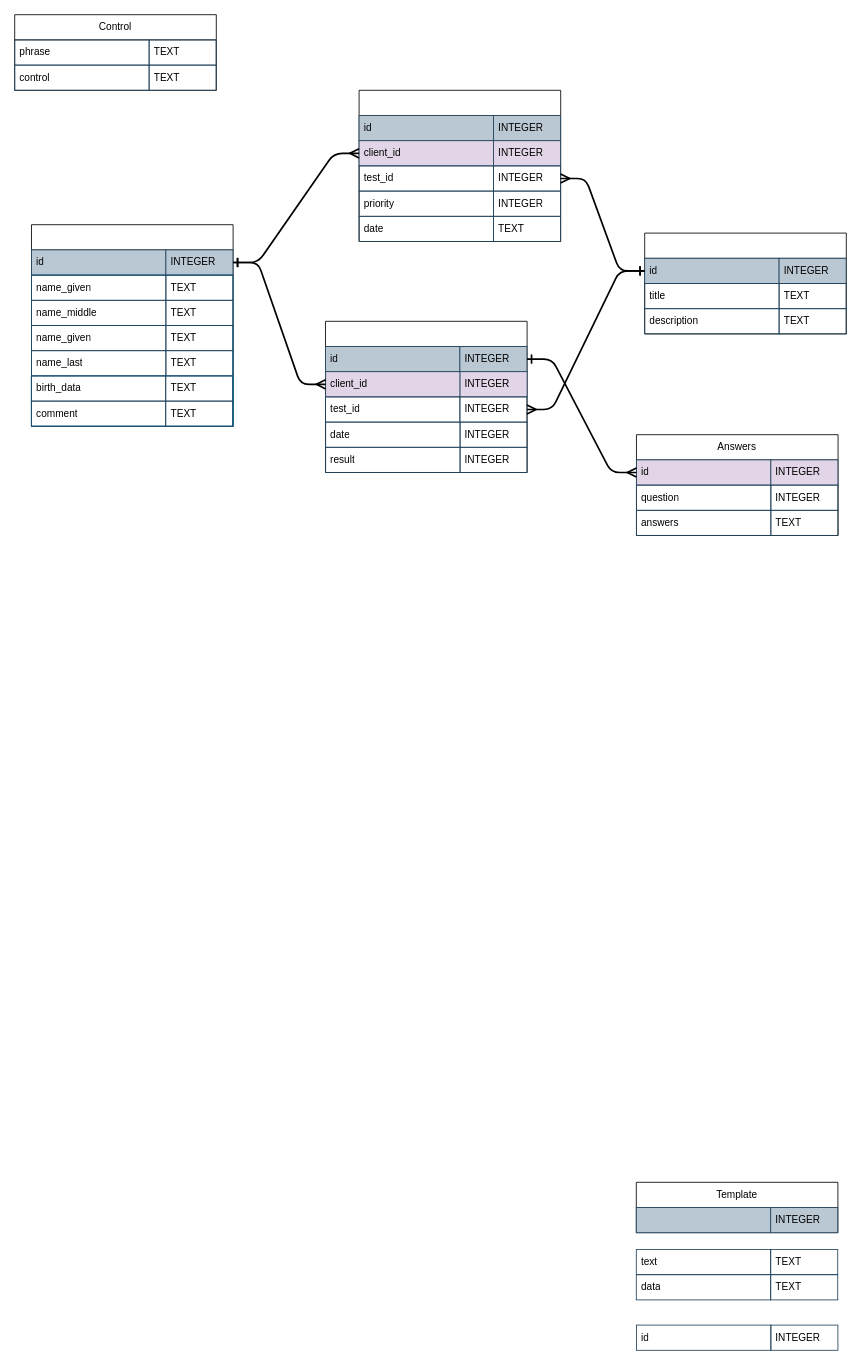
This 861x1365 diagram has some shape labels left out. The shapes that lost their labels are listed below. From the top down, each one's box as (x1, y1, x2, y2) in pixels, then its label:
(358, 89, 561, 242): TestQueue
(644, 232, 846, 334): Tests
(31, 224, 233, 426): Clients
(325, 320, 527, 472): Results
(635, 1207, 771, 1233): primary_key
